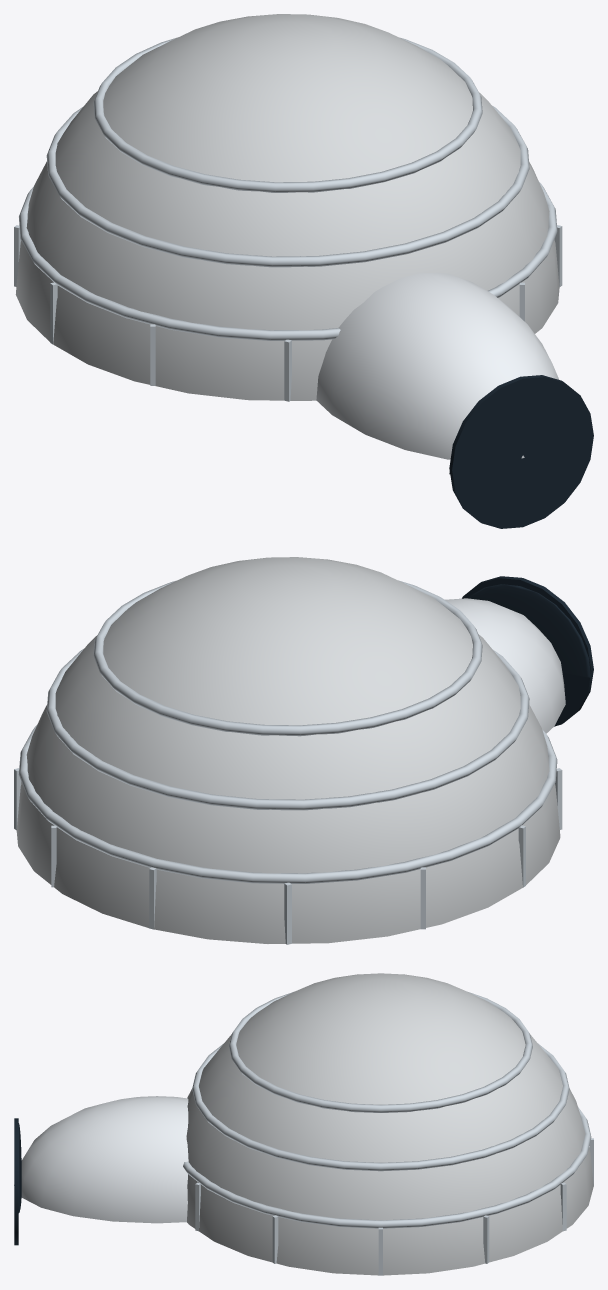
Rendered from igloo.glb.
3 views of the same model, one above another, from view 1: azimuth 30°, elevation 25°; view 2: azimuth 150°, elevation 25°; view 3: azimuth 270°, elevation 25° (orthographic). The views are drawn at different scales.
Visible parts, largest first — view 1: igloo; view 2: igloo; view 3: igloo.
Part boxes in pixels (left/top/right/bottom): igloo: left=14, top=14, right=593, bottom=528; igloo: left=14, top=557, right=593, bottom=944; igloo: left=14, top=973, right=593, bottom=1275.
Bounding box in the file's own units: 2 × 1.28 × 2.72.
